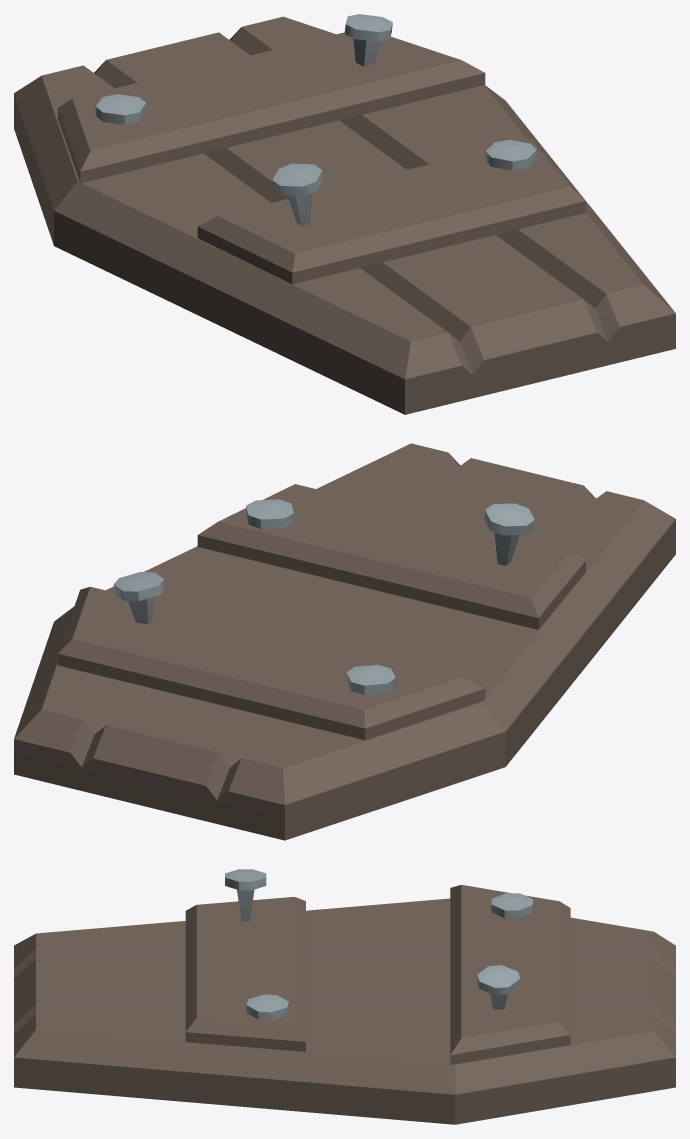
The model's file is coffin_lid.obj.
The picture shows the model from 3 angles, top to bottom: view 1: azimuth 30°, elevation 25°; view 2: azimuth 150°, elevation 25°; view 3: azimuth 270°, elevation 25°; orthographic projection. The views are drawn at different scales.
Parts seen in each view (by area): view 1: coffin_lid_Cube.119; view 2: coffin_lid_Cube.119; view 3: coffin_lid_Cube.119.
Boxes of the visible parts, left/top/right/bottom form: coffin_lid_Cube.119: left=14, top=14, right=675, bottom=414; coffin_lid_Cube.119: left=14, top=443, right=675, bottom=840; coffin_lid_Cube.119: left=14, top=869, right=675, bottom=1124.
Bounding box in the file's own units: 2 × 0.5724 × 3.
1 material, 1 textured.
